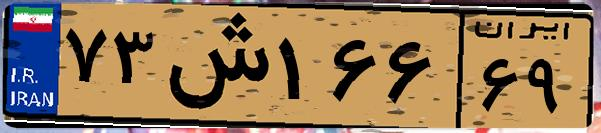1: (270, 28, 330, 110)
3: (110, 28, 158, 98)
6: (385, 28, 445, 110), (330, 28, 385, 110), (475, 38, 525, 113)
7: (57, 26, 110, 100)
9: (525, 38, 570, 115)
ش: (158, 12, 270, 120)
